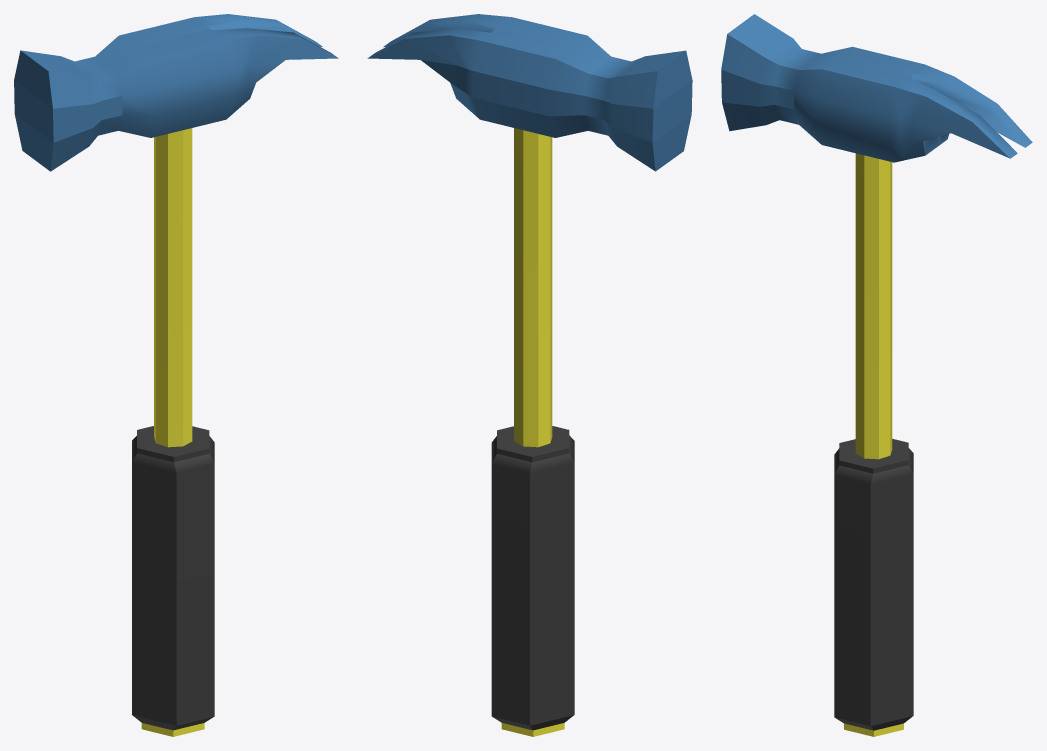
The model's file is hammerforsurface.obj.
3 renders of one model, left to right at view 1: azimuth 30°, elevation 25°; view 2: azimuth 150°, elevation 25°; view 3: azimuth 330°, elevation 25°, orthographic. The views are drawn at different scales.
Visible parts, largest first — view 1: Hammer3; view 2: Hammer3; view 3: Hammer3.
Part boxes in pixels (bbox=[...]): Hammer3: bbox=[14, 14, 338, 736]; Hammer3: bbox=[367, 14, 692, 736]; Hammer3: bbox=[721, 14, 1032, 736].
Bounding box in the file's own units: 3.05 × 6.89 × 0.8034.
